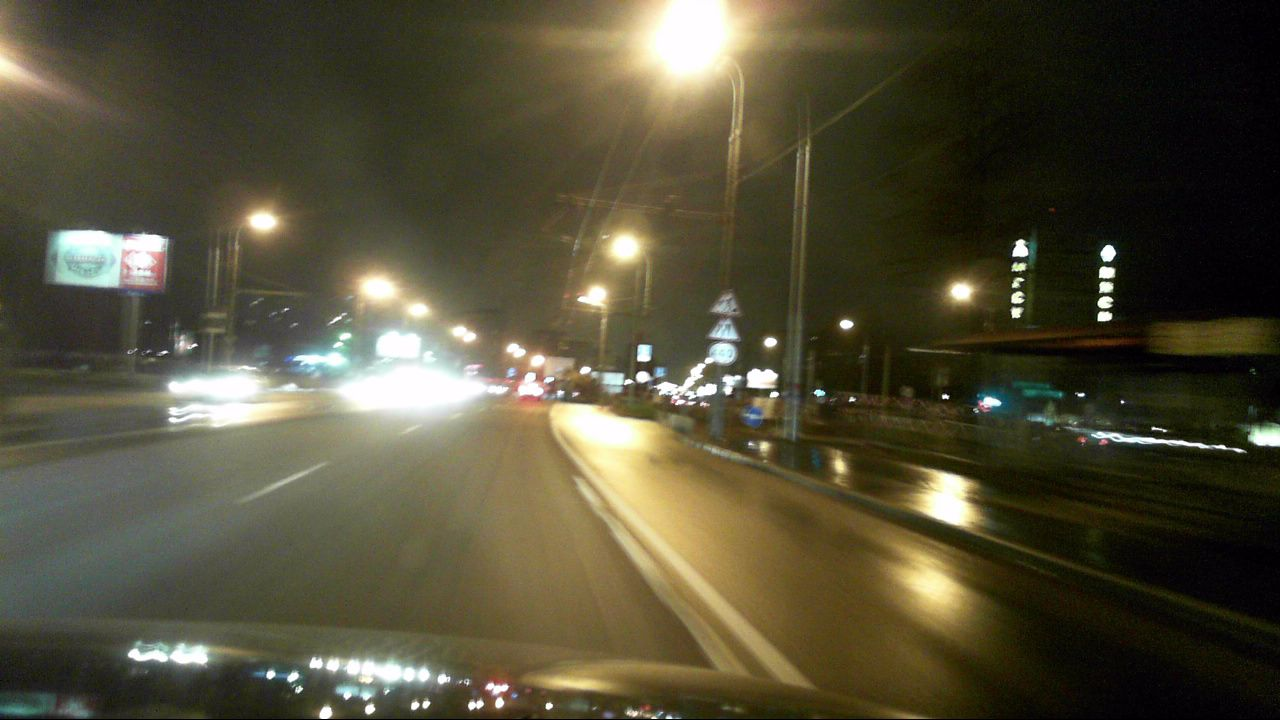speed_warning_40: (710, 342, 737, 364)
